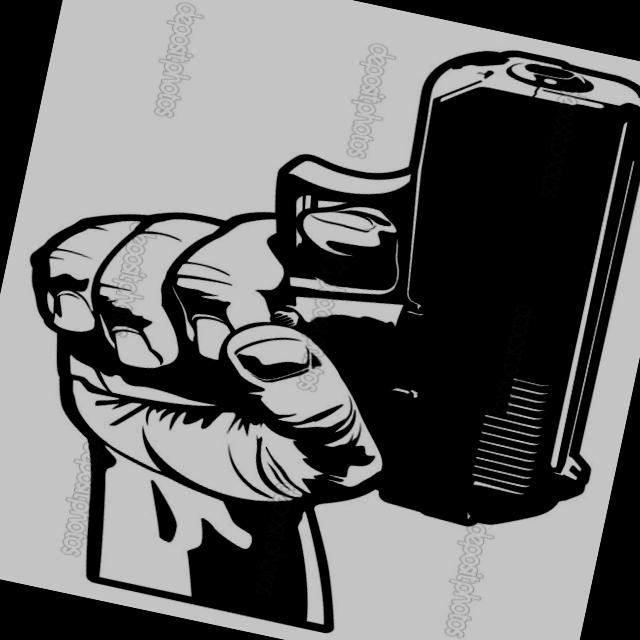handgun: (36, 0, 639, 552)
